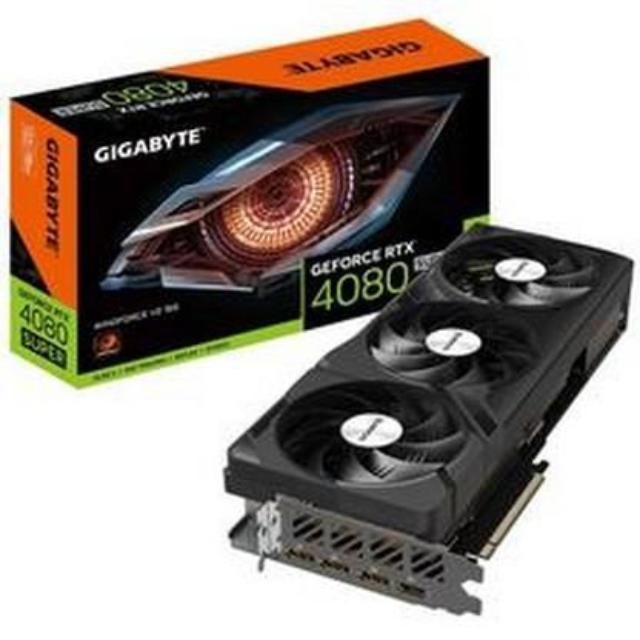GPU: (200, 215, 632, 596)
